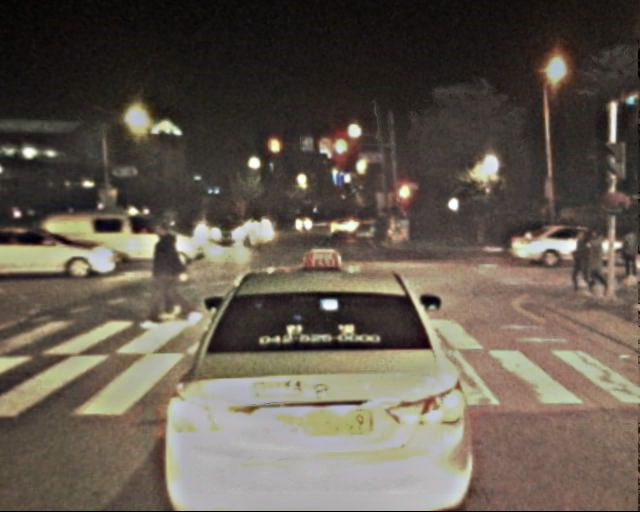person: (144, 217, 187, 323), (566, 229, 593, 295), (583, 231, 610, 296), (617, 227, 640, 286)
